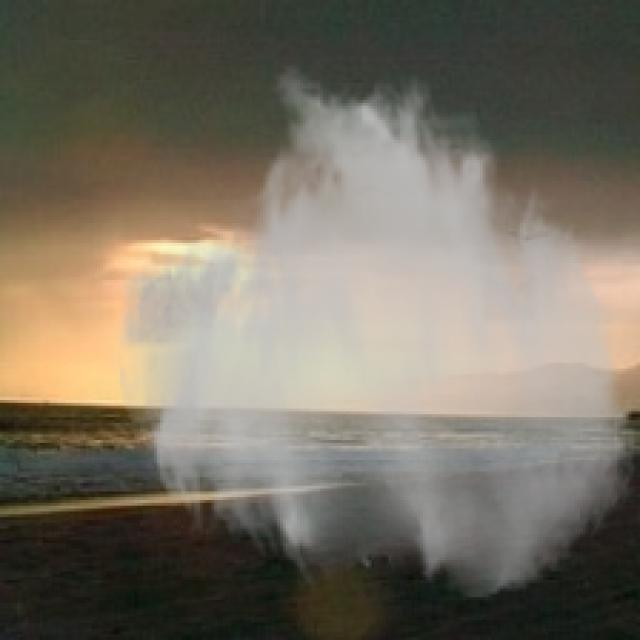smoke: (112, 63, 637, 606)
